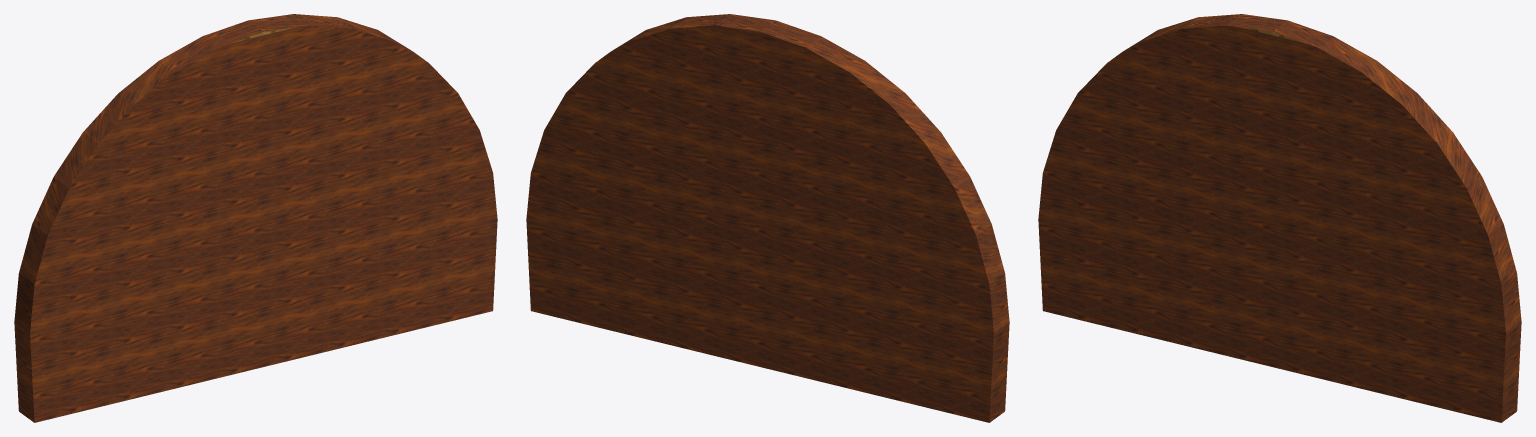
The model's file is Gate_Door.fbx.
3 renders of one model, left to right at view 1: azimuth 30°, elevation 25°; view 2: azimuth 150°, elevation 25°; view 3: azimuth 330°, elevation 25°, orthographic.
Parts seen in each view (by area): view 1: Cylinder; view 2: Cylinder; view 3: Cylinder.
Boxes of the visible parts, box(x1,y1,x2,y2) form: Cylinder: box(14, 14, 497, 422); Cylinder: box(526, 14, 1009, 422); Cylinder: box(1038, 14, 1521, 422).
Size of the model in its own units: 624 by 427 by 36.15.
Materials: 1 (1 with a texture image).
